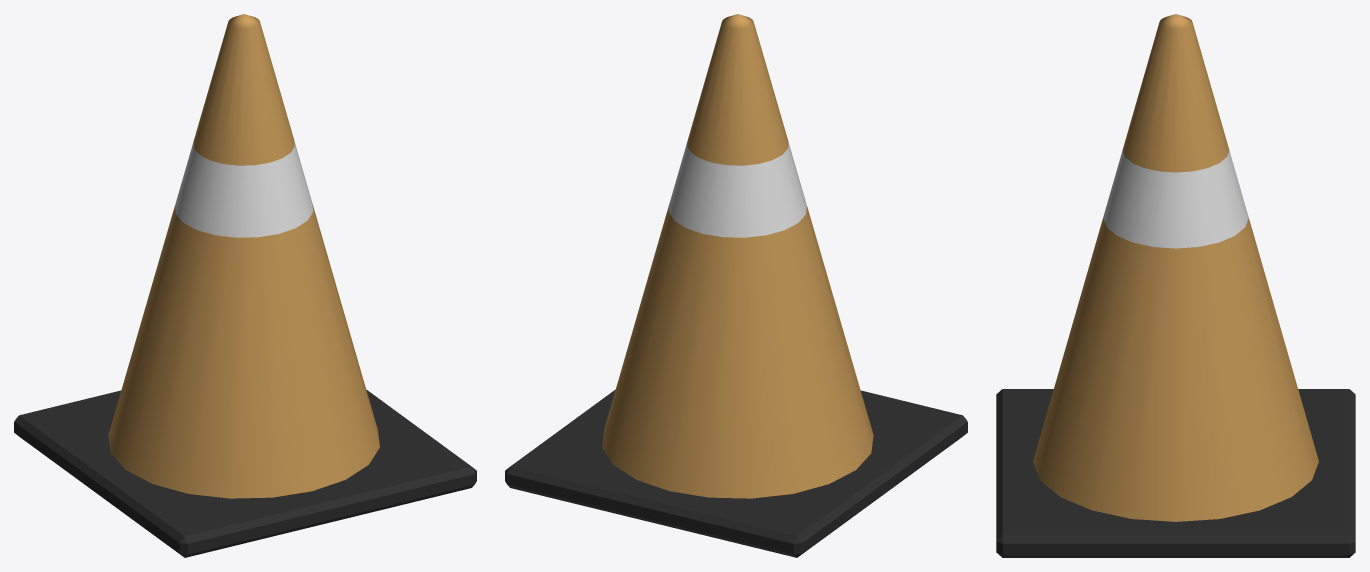
The model's file is Road Cone 1.fbx.
3 views of the same model, side by side, from view 1: azimuth 30°, elevation 25°; view 2: azimuth 150°, elevation 25°; view 3: azimuth 270°, elevation 25° (orthographic). The views are drawn at different scales.
Parts seen in each view (by area): view 1: pCube161; view 2: pCube161; view 3: pCube161.
Part boxes in pixels (<box>): pCube161: <box>14,14,476,557</box>; pCube161: <box>505,14,967,557</box>; pCube161: <box>996,14,1355,557</box>.
Bounding box in the file's own units: 15.11 × 21.81 × 15.11.
